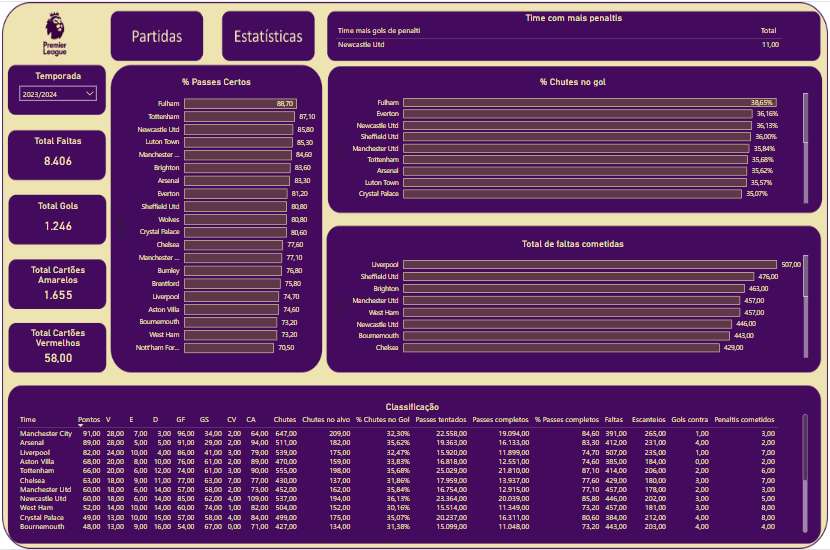

The dashboard page shown, as its layout file describes it:
{"tool":"powerbi","page":{"name":"Estatisticas","canvas":[1510,1000],"ordinal":1},"visuals":[{"type":"slicer","title":"Temporada","fields":{"Values":["seasons.seasons"]},"box":[21.8,124.3,161.3,73.9],"z":0},{"type":"card","title":"Total Gols","fields":{"Values":["Sum(seasonstats.GF)"]},"box":[21.8,362.6,160.5,73.3],"z":1000},{"type":"card","title":"Total Faltas","fields":{"Values":["Sum(seasonstats.Fls)"]},"box":[21.8,243.7,160.5,73.3],"z":2000},{"type":"card","title":"Total Cartões Amarelos","fields":{"Values":["Sum(seasonstats.CrdY)"]},"box":[21.8,479.6,160.5,73.3],"z":3000},{"type":"card","title":"Total Cartões Vermelhos","fields":{"Values":["Sum(seasonstats.CrdR)"]},"box":[21.8,594.5,160.5,73.3],"z":4000},{"type":"barChart","title":"% Passes Certos","fields":{"Category":["seasonstats.Squad"],"Y":["Sum(seasonstats.Cmp%)"]},"box":[204.1,134.8,374.5,521.2],"z":5000},{"type":"clusteredBarChart","title":"% Chutes no gol","fields":{"Category":["seasonstats.Squad"],"Y":["Sum(seasonstats.pct_chutes_no_gol)"]},"box":[608.4,134.8,869.9,237.8],"z":6000},{"type":"barChart","title":"Total de faltas cometidas","fields":{"Category":["seasonstats.Squad"],"Y":["Sum(seasonstats.Fls)"]},"box":[608.4,432,869.9,223.9],"z":7000},{"type":"tableEx","title":"Classificação","fields":{"Values":["seasonstats.Squad","Sum(seasonstats.Pts)","Sum(seasonstats.W)","Sum(seasonstats.D)","Sum(seasonstats.L)","Sum(seasonstats.GF)","Sum(seasonstats.GA)","Sum(seasonstats.CrdR)","Sum(seasonstats.CrdY)","Sum(seasonstats.Sh)","Sum(seasonstats.SoT)","Sum(seasonstats.pct_chutes_no_gol)"]},"box":[21.8,729.2,1456.5,245.7],"z":7001},{"type":"tableEx","title":"Time com mais penaltis","fields":{"Values":["medidas.time_mais_gols_penaltis","medidas.mais_penaltis"]},"box":[602.4,17.8,883.8,77.3],"z":7002},{"type":"actionButton","box":[182.3,17.8,192.2,91.2],"z":7003},{"type":"actionButton","box":[392.4,17.8,186.3,91.2],"z":7004}]}

Visuals, with their boxes in screenshot pixels (x1, y1, x2, y2), scaled from the page's 1510x1000 canvas onto the 830x550 screenshot:
"Temporada" slicer: rect(12, 68, 101, 109)
"Total Gols" card: rect(12, 199, 100, 240)
"Total Faltas" card: rect(12, 134, 100, 174)
"Total Cartões Amarelos" card: rect(12, 264, 100, 304)
"Total Cartões Vermelhos" card: rect(12, 327, 100, 367)
"% Passes Certos" barChart: rect(112, 74, 318, 361)
"% Chutes no gol" clusteredBarChart: rect(334, 74, 813, 205)
"Total de faltas cometidas" barChart: rect(334, 238, 813, 361)
"Classificação" tableEx: rect(12, 401, 813, 536)
"Time com mais penaltis" tableEx: rect(331, 10, 817, 52)
actionButton: rect(100, 10, 206, 60)
actionButton: rect(216, 10, 318, 60)
